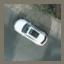car: (13, 13, 49, 49)
